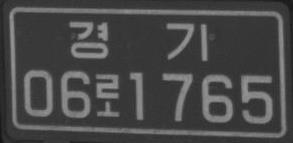0: (22, 68, 53, 118)
1: (124, 71, 149, 121)
5: (238, 73, 274, 125)
6: (200, 72, 234, 124), (59, 69, 91, 119)
7: (161, 71, 194, 121)
경기_D: (68, 19, 208, 62)
로: (94, 71, 121, 118)
